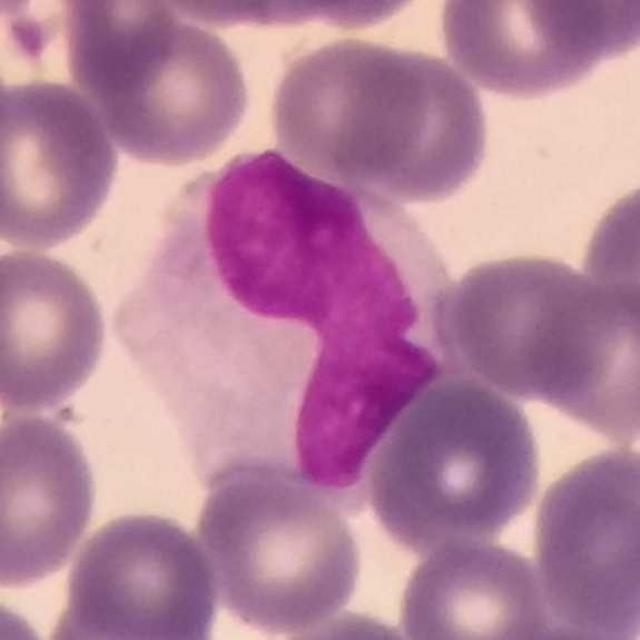Monocyte: (114, 155, 458, 488)
RBC: (363, 376, 545, 548), (193, 462, 367, 637), (83, 12, 256, 169), (438, 246, 612, 400), (266, 38, 437, 190), (340, 42, 494, 206), (0, 71, 124, 253), (527, 440, 640, 636), (61, 505, 223, 639), (524, 272, 640, 444), (0, 243, 114, 414), (434, 0, 622, 102), (1, 410, 103, 591), (396, 535, 550, 640), (51, 0, 183, 98), (577, 171, 640, 332), (40, 594, 198, 640), (520, 0, 640, 58), (250, 0, 415, 38), (127, 0, 328, 29), (261, 607, 429, 640), (474, 619, 640, 640), (0, 590, 57, 640)
